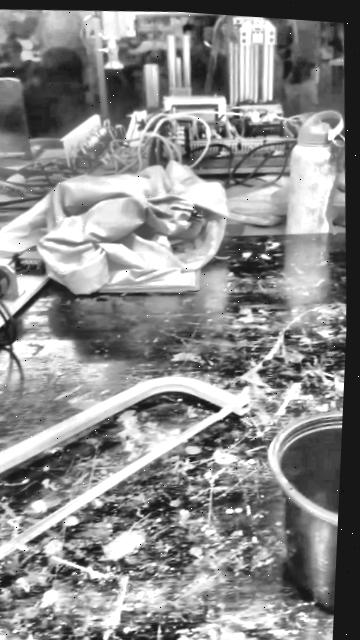pot: (257, 409, 343, 622)
